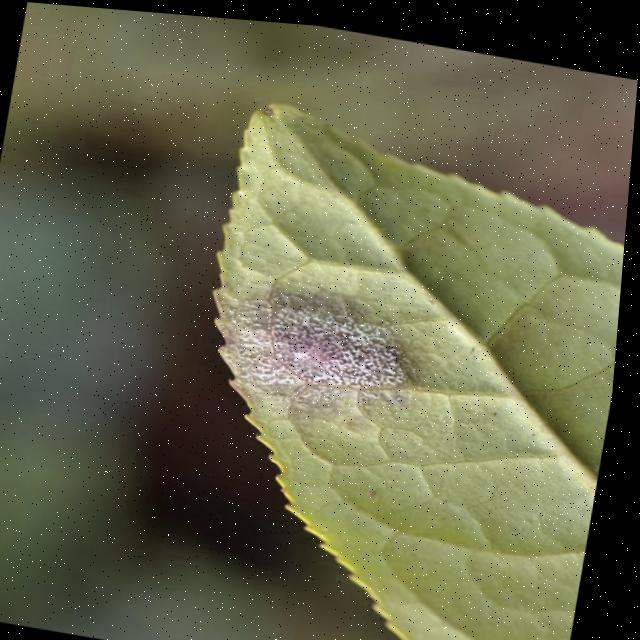Tea exobasidium blight: (225, 273, 433, 406)
